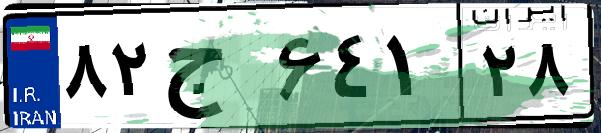1: (385, 28, 445, 110)
2: (475, 38, 525, 113), (110, 28, 158, 98)
4: (330, 28, 385, 110)
6: (270, 28, 330, 110)
8: (57, 26, 110, 100), (525, 38, 570, 115)
ج: (158, 20, 270, 120)
